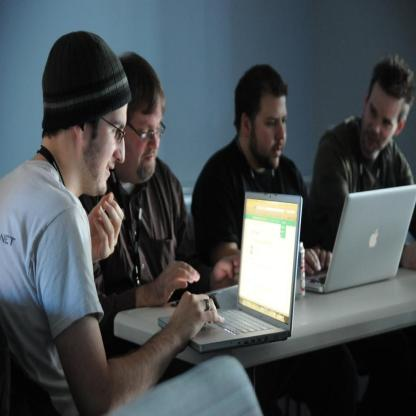board: (158, 189, 303, 354), (304, 186, 416, 296)
